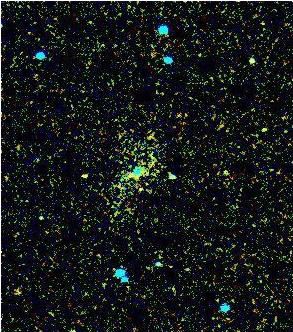star: (73, 158, 103, 188)
